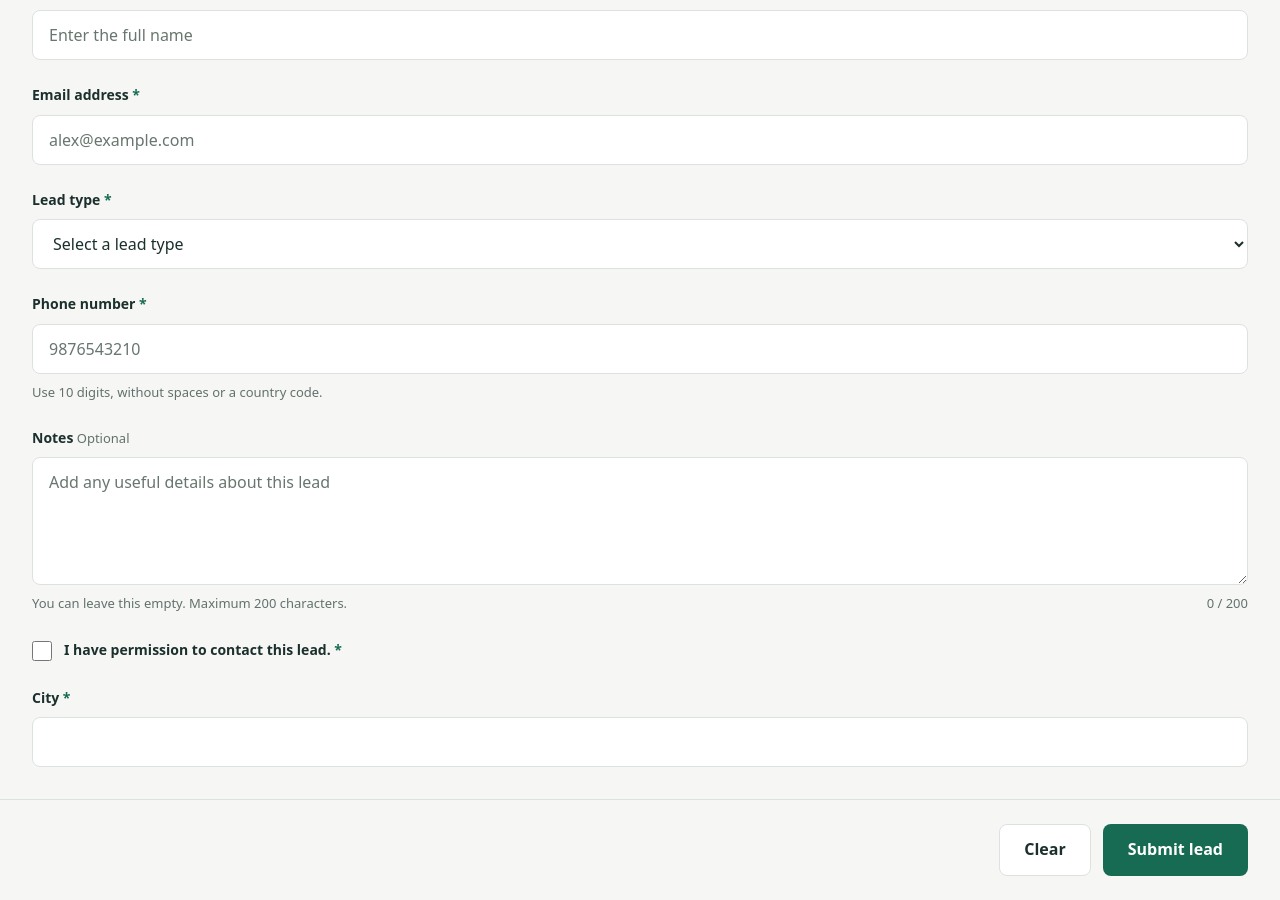
Test: form interactions › renders and validates a newly configured field without renderer changes
(page scrolled)
Check: the field labelled "City *" is shown, box top-left (32, 717), bottom-right (1248, 767)
Click the button "Submit lead" at (1175, 850), box top-left (1103, 824), bottom-right (1248, 876)
(page scrolled)
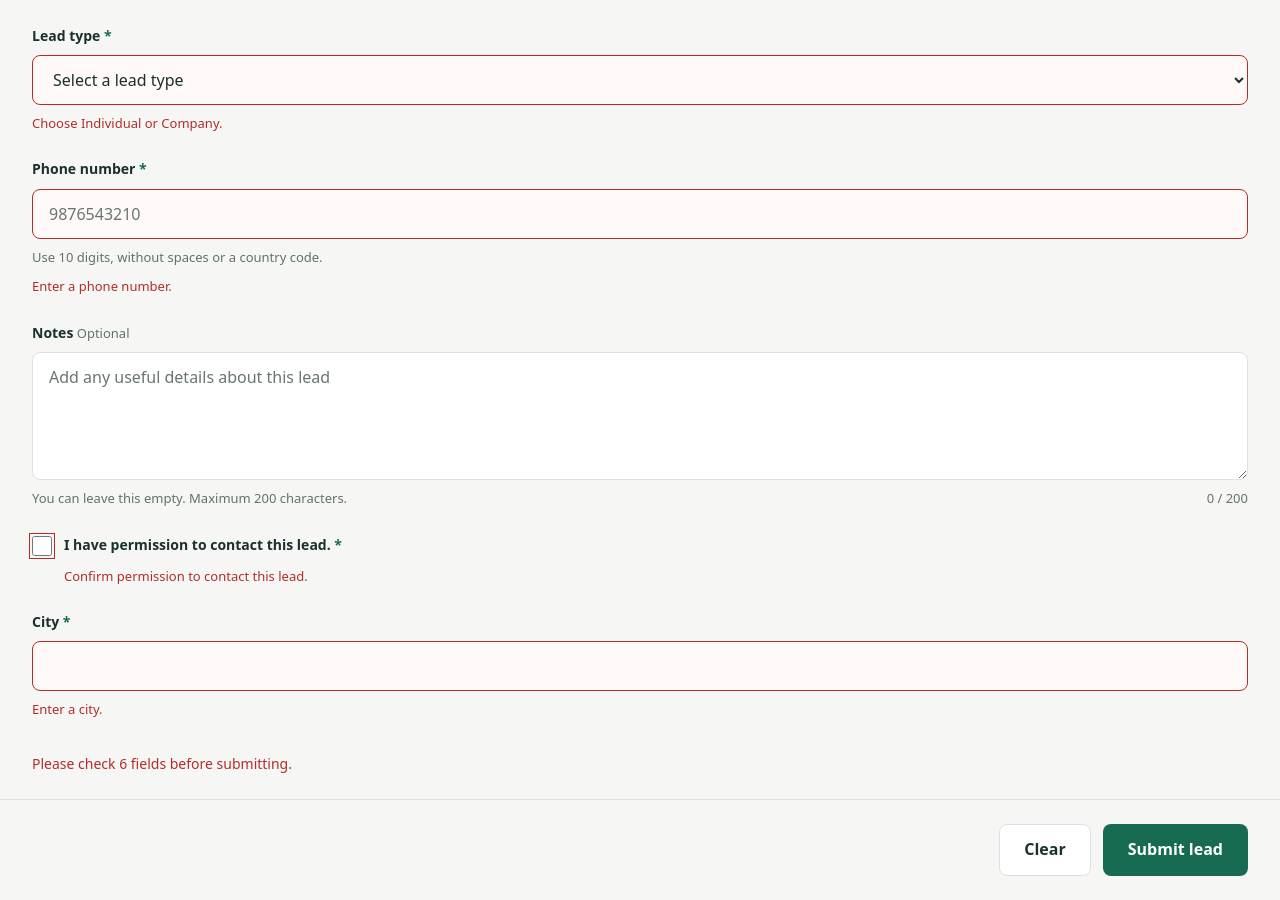
Check: the text "Enter a city." is shown, box top-left (32, 700), bottom-right (103, 718)
